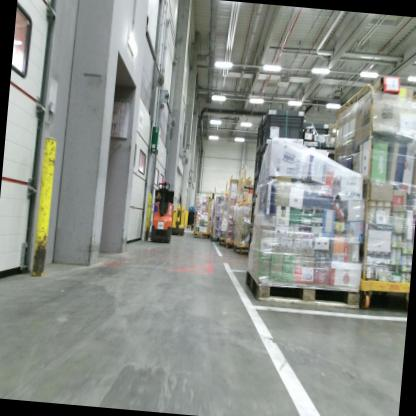pallet: (237, 262, 365, 318), (185, 225, 194, 232)
pallet_truck: (145, 177, 178, 253), (169, 188, 190, 244)
